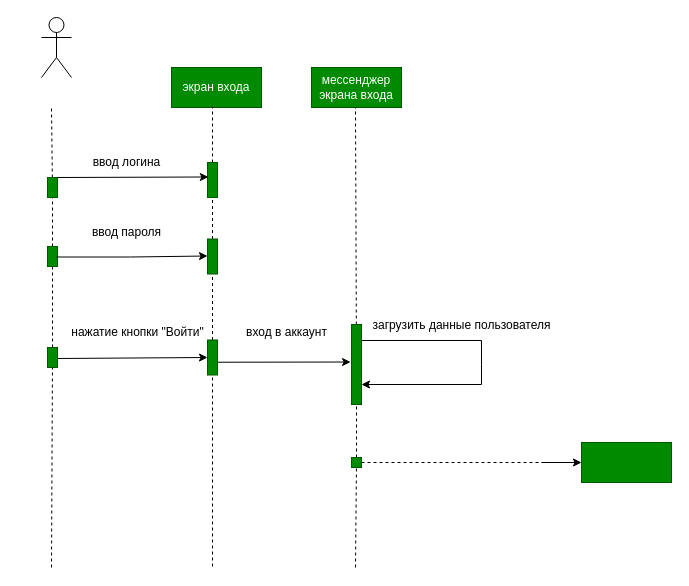
Image size: 689x586. Some labels were removed from this diagram. Here are the shapes that lost their labels. From the top down, the centre of each, then its label:
At point 56,47: "Пользователь".
At point 626,462: "главное меню".
